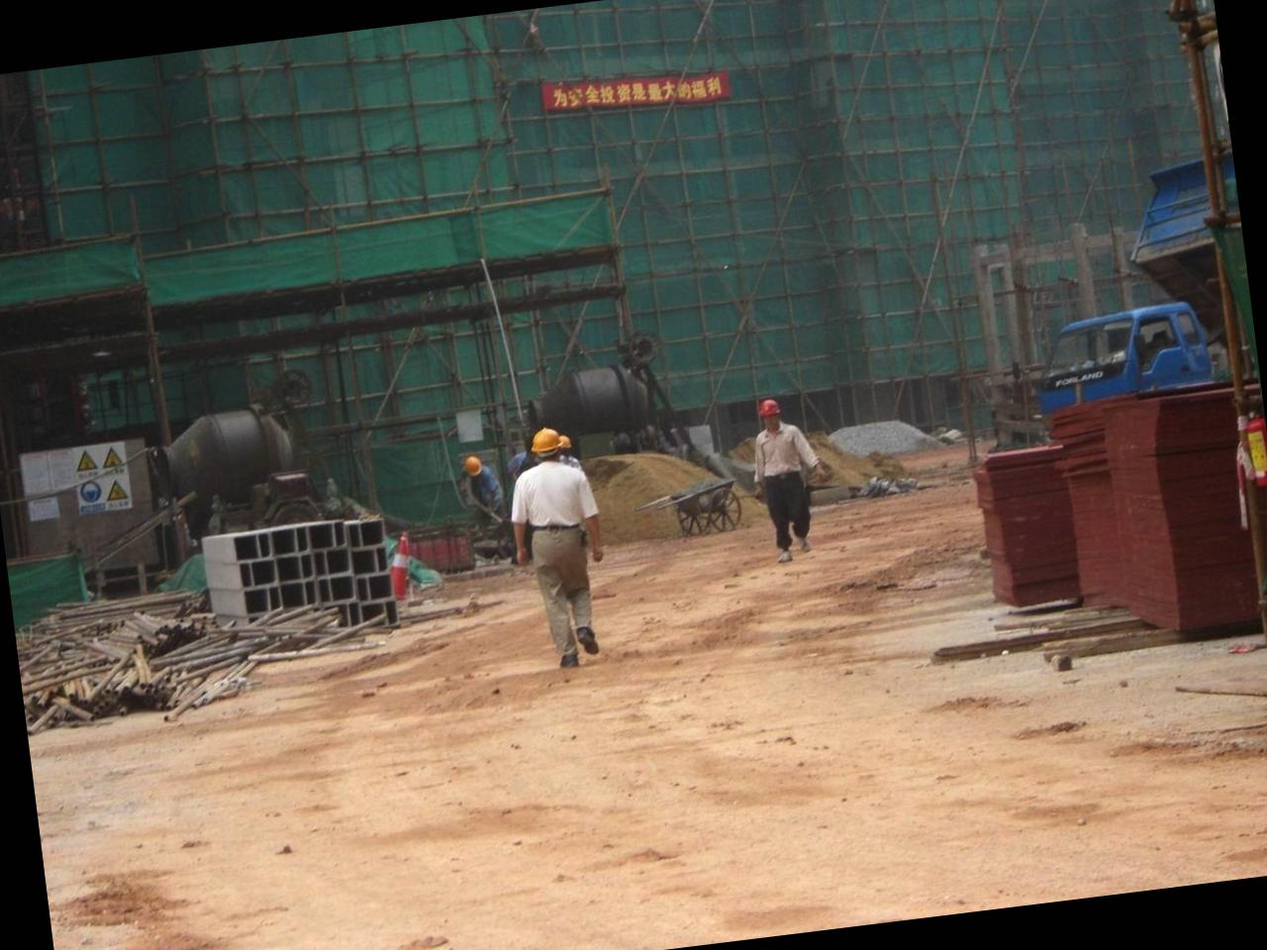helmet: (518, 422, 567, 460), (749, 396, 787, 425), (461, 451, 487, 479)
no_vest: (513, 461, 596, 546), (750, 423, 824, 481)
person: (492, 413, 625, 683), (738, 373, 842, 562), (456, 436, 513, 547)
